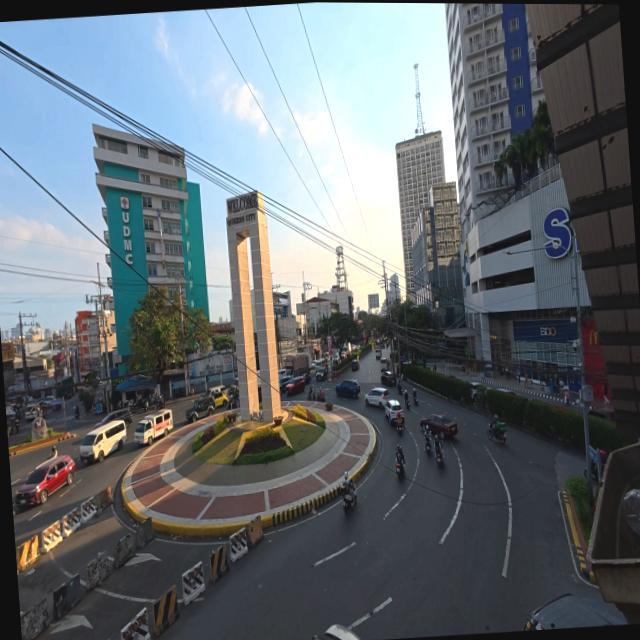car: (522, 594, 627, 630), (15, 455, 75, 508), (420, 413, 457, 437), (95, 408, 132, 428), (186, 396, 214, 422), (313, 624, 360, 639), (365, 388, 389, 408), (384, 400, 403, 424), (209, 386, 229, 408), (336, 380, 360, 397), (286, 376, 306, 395), (589, 407, 615, 421), (470, 381, 486, 399), (278, 374, 292, 392), (381, 371, 396, 386), (316, 366, 328, 381), (495, 388, 517, 396), (43, 395, 55, 406), (301, 372, 311, 384), (279, 369, 291, 377), (351, 360, 359, 371), (340, 351, 348, 360), (353, 345, 360, 351)
motorcycle: (487, 423, 506, 444), (343, 488, 357, 513), (435, 433, 444, 467), (131, 397, 149, 412), (308, 390, 325, 402), (435, 444, 443, 467), (591, 459, 599, 481), (396, 460, 404, 479), (425, 436, 432, 454), (308, 388, 316, 400), (318, 390, 325, 402), (74, 407, 80, 420), (398, 423, 403, 435), (405, 400, 410, 410), (414, 397, 418, 406), (398, 388, 403, 395)
trucks: (285, 353, 311, 375)
vans: (80, 421, 127, 462), (135, 409, 173, 445), (25, 404, 40, 420), (380, 358, 388, 371), (375, 346, 381, 359)
